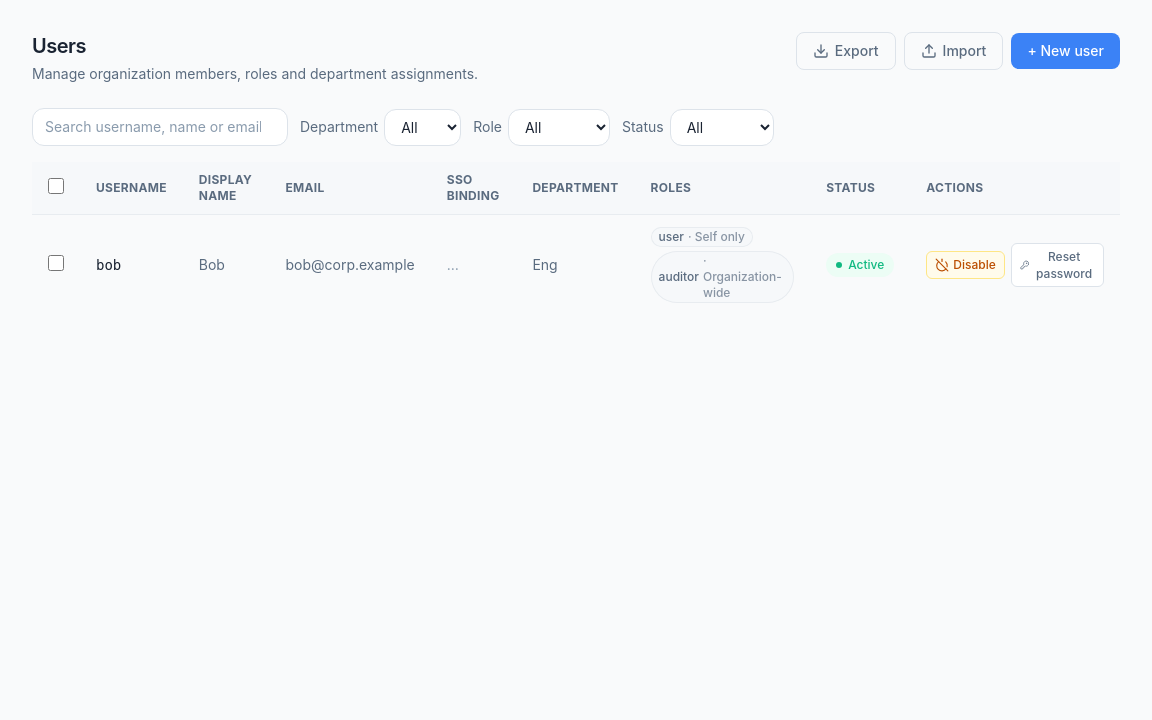
Test: pages/UsersPage › create drawer shows the org and role sections (chips with scope + union/intersection hint)
This screenshot has width=1152, height=720.
Check: the text "bob" is shown, box [96,257,121,273]
Click the button "+ New user": (1066, 51) [1011,33,1120,69]
(page scrolled)
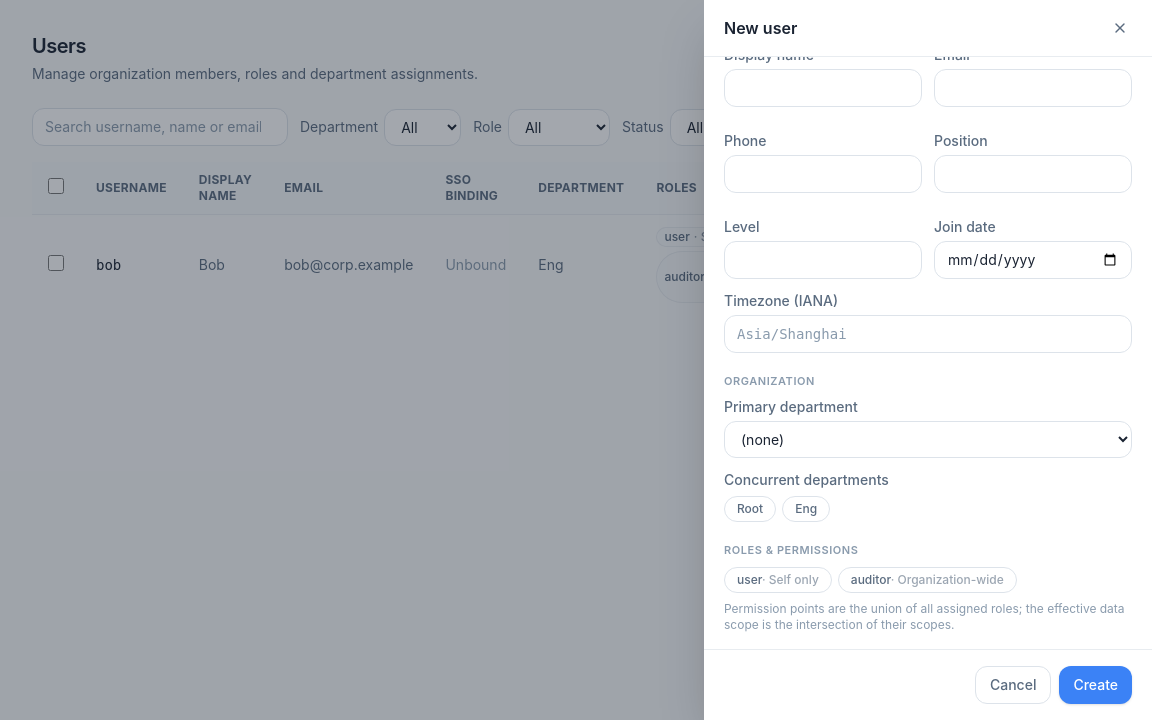
Check: the text "Organization" is shown, box [724,374,815,388]
Check: the text "Roles & permissions" is shown, box [724,543,858,557]
Check: the button "auditor· Organization-wide" is shown, box [838,566,1017,592]
